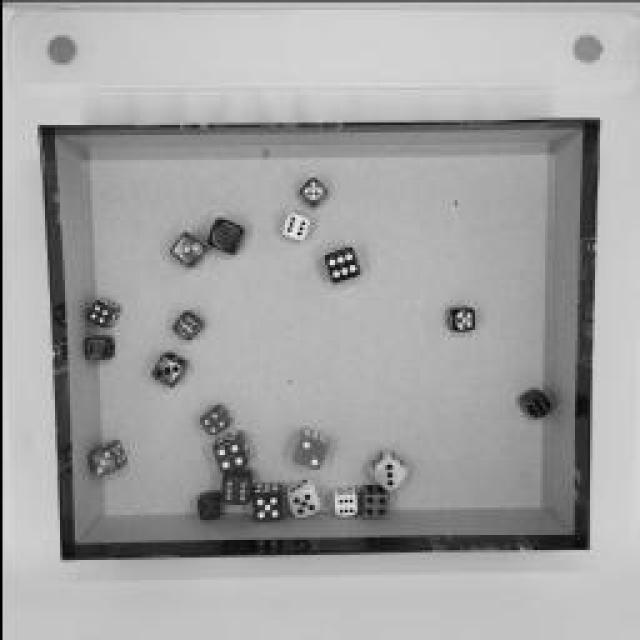dice_2: (288, 425, 328, 470), (204, 213, 244, 255)
dice_3: (362, 448, 408, 492), (80, 438, 125, 478), (165, 228, 205, 268), (145, 349, 185, 386), (191, 489, 221, 521)
dice_4: (210, 429, 250, 471), (84, 292, 118, 330), (355, 482, 387, 520), (195, 402, 230, 436), (81, 331, 114, 361)
dice_5: (281, 476, 319, 522), (245, 478, 283, 524), (294, 175, 326, 207), (443, 305, 475, 335)
dice_6: (318, 245, 358, 285), (216, 470, 249, 505), (514, 386, 548, 419), (168, 308, 202, 340), (328, 484, 358, 518), (278, 210, 308, 240)
